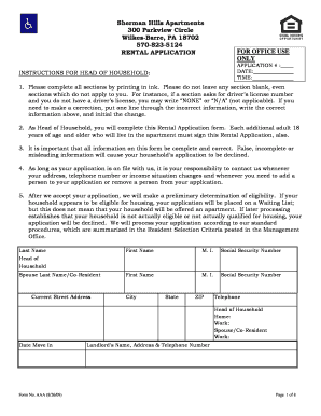textbox: (83, 348, 301, 370), (16, 305, 106, 343), (212, 305, 299, 344), (16, 245, 125, 272), (15, 269, 127, 295), (83, 339, 302, 352), (101, 304, 161, 343), (219, 245, 299, 274), (220, 269, 300, 295), (123, 245, 197, 273), (122, 269, 198, 296), (16, 348, 88, 370), (16, 291, 107, 308), (212, 291, 300, 308), (154, 305, 188, 343), (184, 305, 216, 343), (102, 291, 161, 308), (16, 339, 88, 351), (194, 245, 221, 273), (195, 269, 222, 295), (183, 291, 217, 308), (156, 291, 189, 308)
textline: (252, 75, 295, 82), (254, 67, 294, 74), (279, 60, 294, 69)
